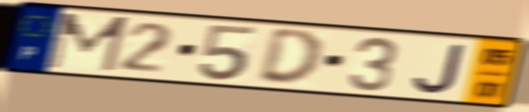2: (116, 21, 176, 75)
3: (347, 35, 400, 92)
5: (196, 23, 260, 83)
D: (255, 28, 325, 89)
J: (410, 41, 470, 96)
M: (44, 11, 132, 75)
